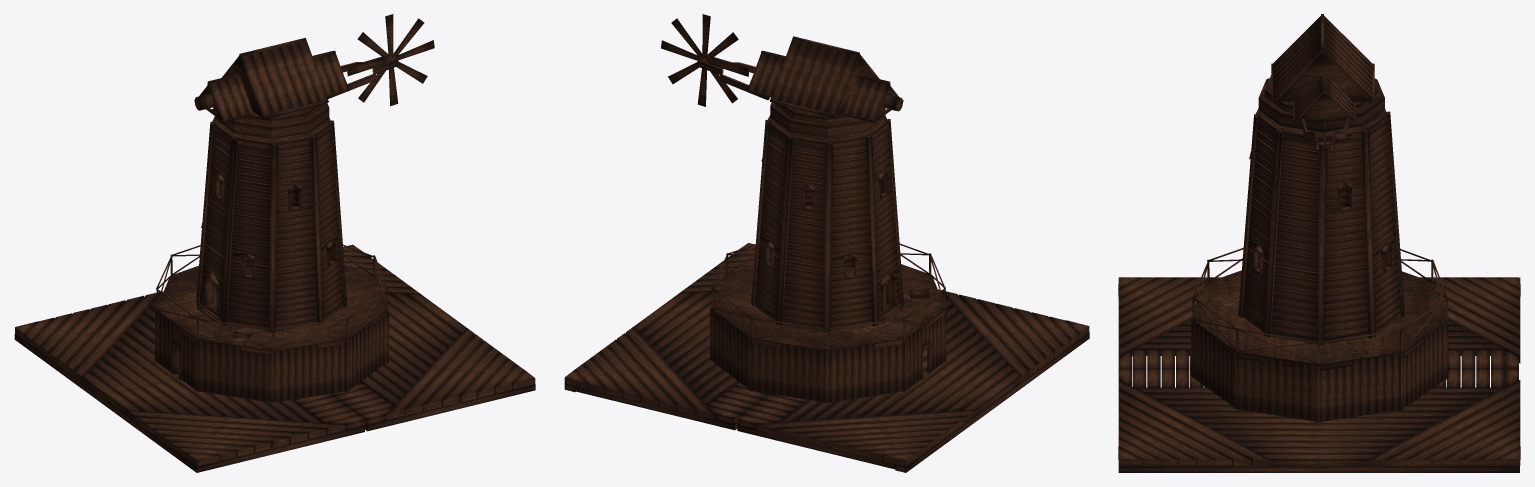
The model's file is molino.obj.
The picture shows the model from 3 angles, left to right: view 1: azimuth 30°, elevation 25°; view 2: azimuth 150°, elevation 25°; view 3: azimuth 270°, elevation 25°; orthographic projection. The views are drawn at different scales.
Parts seen in each view (by area): view 1: Box018, Box036, Gengon003, Box055, Box039, Box040, Object017, Box038, Box041, Gengon002; view 2: Box018, Box036, Gengon003, Box055, Box042, Box043, Object017, Box044, Box041, Gengon002; view 3: Box018, Box036, Gengon003, Box055, Box045, Box037, Box044, Box038, Gengon002, Object008, Object007, Object009.
Boxes of the visible parts, x1,y1,x2,y2 form: Box018: [14, 244, 535, 472]; Box036: [196, 117, 347, 332]; Gengon003: [194, 37, 399, 138]; Box055: [156, 265, 388, 355]; Box039: [274, 344, 344, 402]; Box040: [197, 340, 269, 401]; Object017: [347, 14, 434, 106]; Box038: [349, 316, 386, 389]; Box041: [156, 311, 194, 388]; Gengon002: [214, 118, 330, 149]; Box018: [564, 243, 1089, 472]; Box036: [751, 115, 903, 332]; Gengon003: [696, 36, 903, 137]; Box055: [711, 264, 945, 355]; Box042: [829, 344, 902, 402]; Box043: [752, 344, 825, 402]; Object017: [661, 14, 748, 106]; Box044: [711, 309, 749, 387]; Box041: [906, 316, 944, 389]; Gengon002: [769, 117, 887, 148]; Box018: [1118, 277, 1520, 472]; Box036: [1238, 108, 1404, 344]; Gengon003: [1258, 14, 1384, 150]; Box055: [1192, 270, 1448, 370]; Box045: [1321, 353, 1400, 421]; Box037: [1238, 358, 1317, 421]; Box044: [1402, 322, 1446, 408]; Box038: [1193, 321, 1233, 406]; Gengon002: [1258, 109, 1386, 143]; Object008: [1317, 328, 1402, 366]; Object007: [1235, 328, 1320, 364]; Object009: [1400, 297, 1447, 354].
Size of the model in its own units: 237 by 214 by 221.
1 material, 1 textured.
